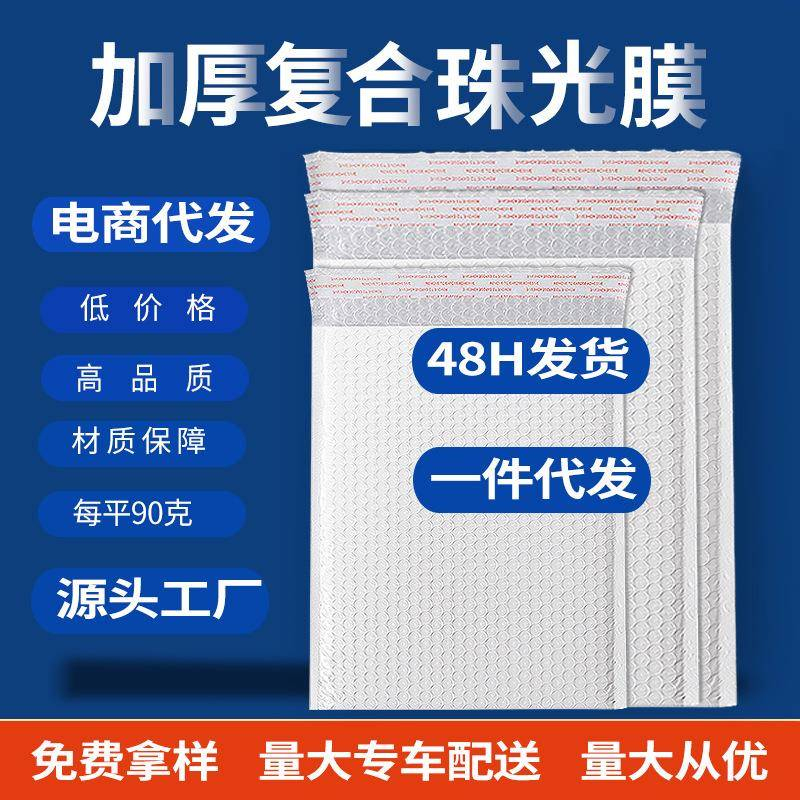Parcel: (306, 150, 742, 710)
